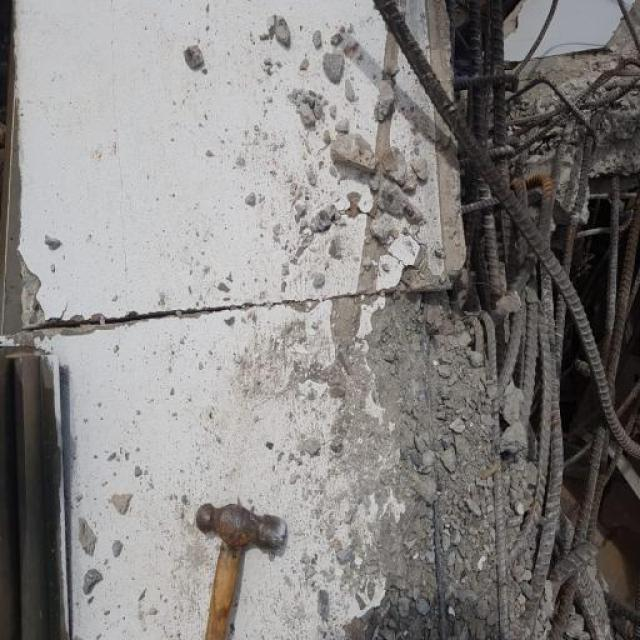D0w0: (358, 151, 620, 638), (454, 0, 639, 436)
